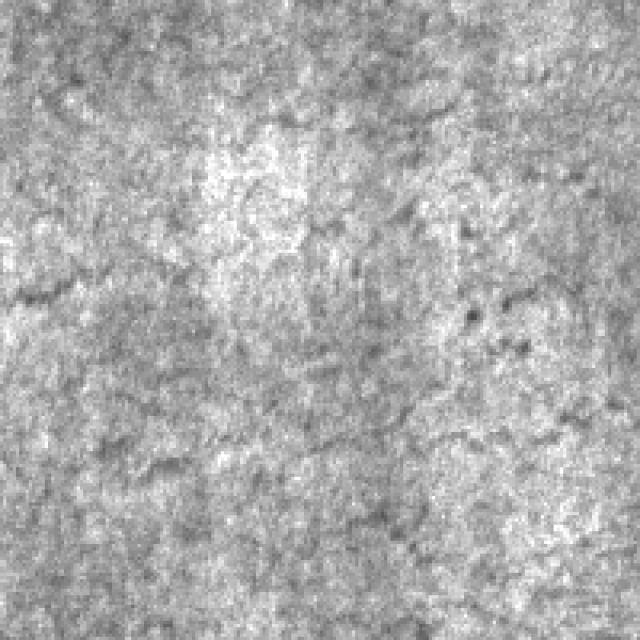crazing: (29, 167, 630, 310), (99, 406, 573, 580), (36, 29, 487, 150)
